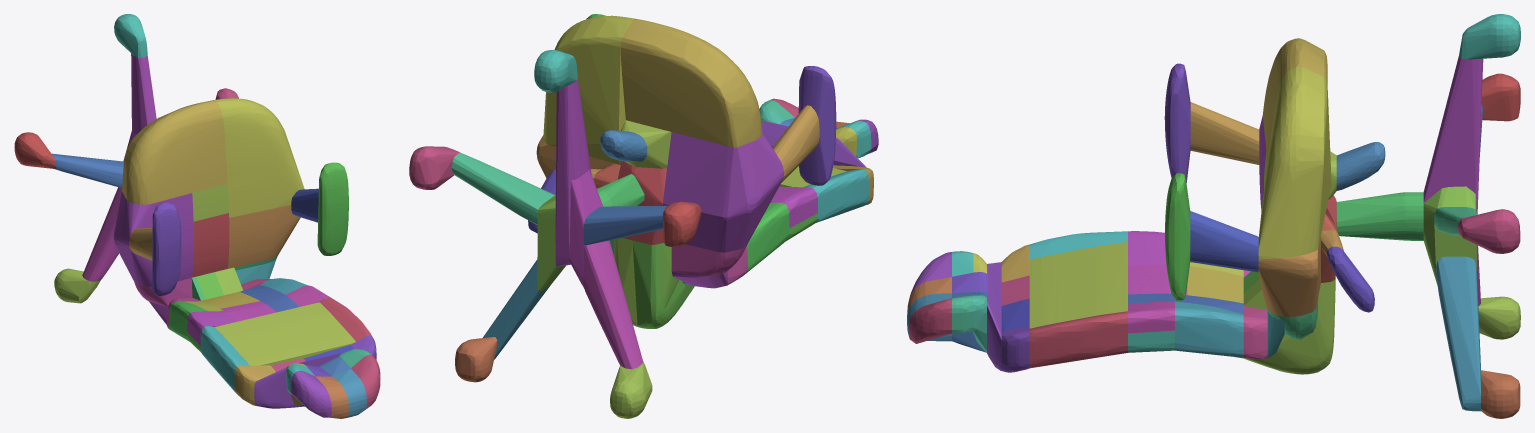
Rendered from hulls.glb.
3 views of the same model, side by side, from view 1: azimuth 30°, elevation 25°; view 2: azimuth 150°, elevation 25°; view 3: azimuth 270°, elevation 25° (orthographic). The views are drawn at different scales.
Bounding box in the file's own units: 0.7048 × 0.8254 × 1.27.
